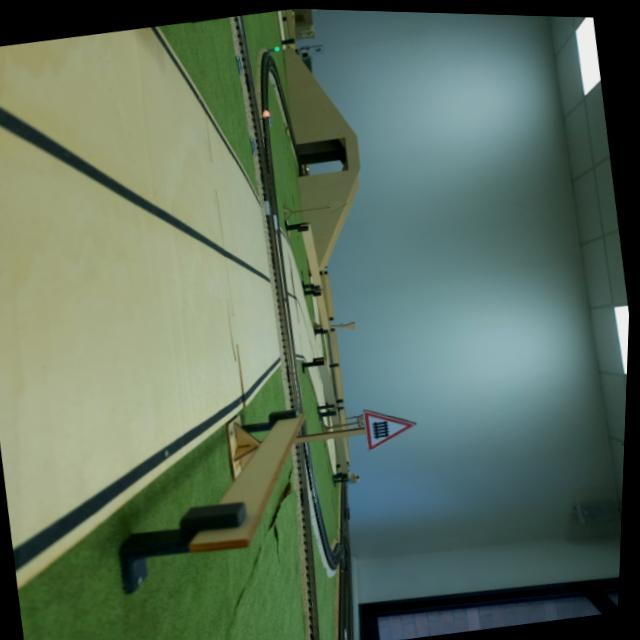panneau_barriere: (349, 398, 428, 458)
